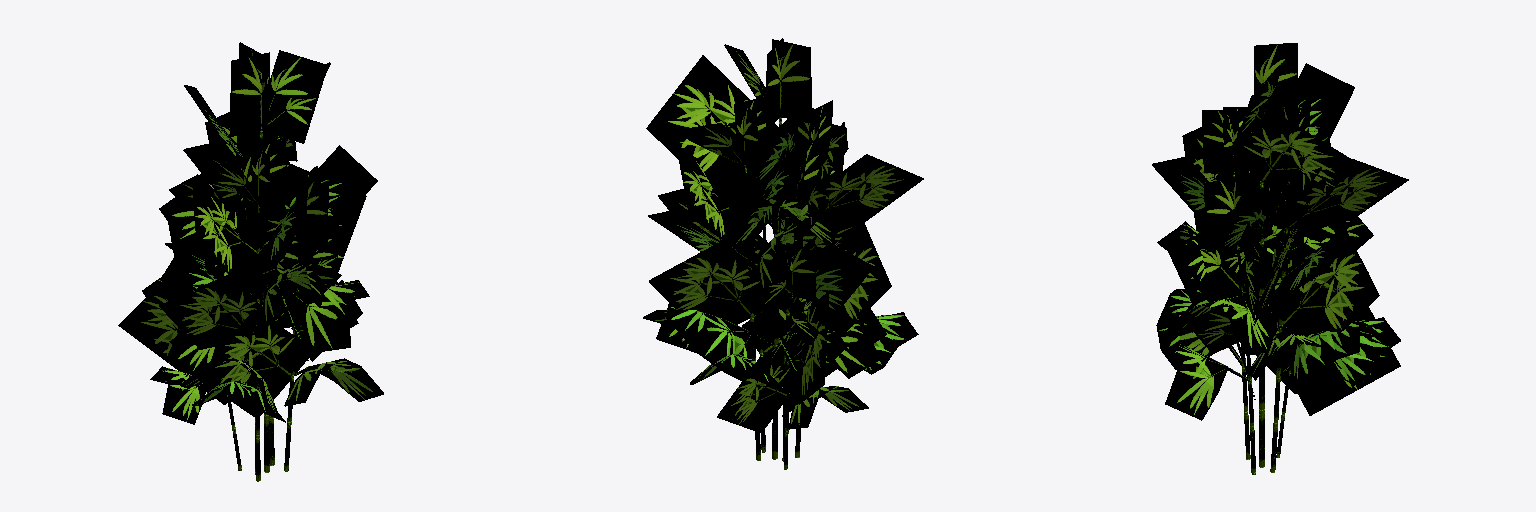
3 renders of one model, left to right at view 1: azimuth 30°, elevation 25°; view 2: azimuth 150°, elevation 25°; view 3: azimuth 270°, elevation 25°, orthographic.
Parts seen in each view (by area): view 1: BambuPlant:bambupasted__groupgroup2; view 2: BambuPlant:bambupasted__groupgroup2; view 3: BambuPlant:bambupasted__groupgroup2.
Boxes of the visible parts, x1,y1,x2,y2 form: BambuPlant:bambupasted__groupgroup2: [118, 42, 383, 481]; BambuPlant:bambupasted__groupgroup2: [643, 38, 923, 469]; BambuPlant:bambupasted__groupgroup2: [1152, 43, 1408, 474].
Bounding box in the file's own units: 3.97 × 7.2 × 4.01.
Materials: 1 (1 with a texture image).